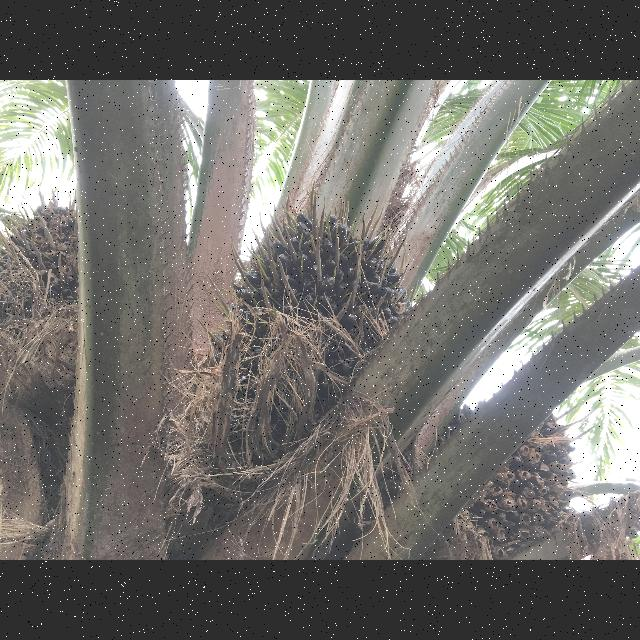Unripe: (219, 221, 405, 409)
